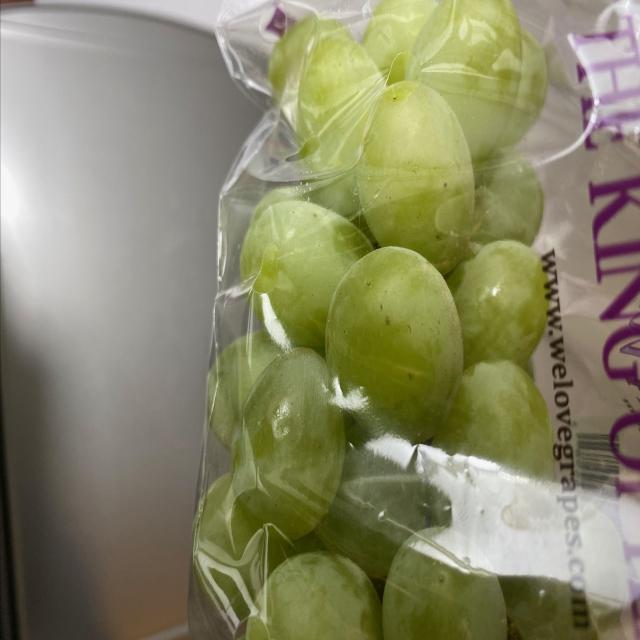grapes: (206, 6, 605, 636)
